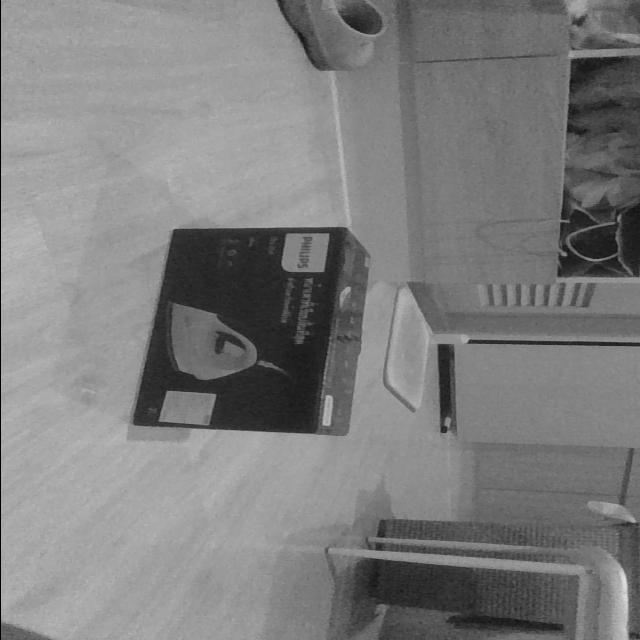IRON: (127, 224, 375, 438)
